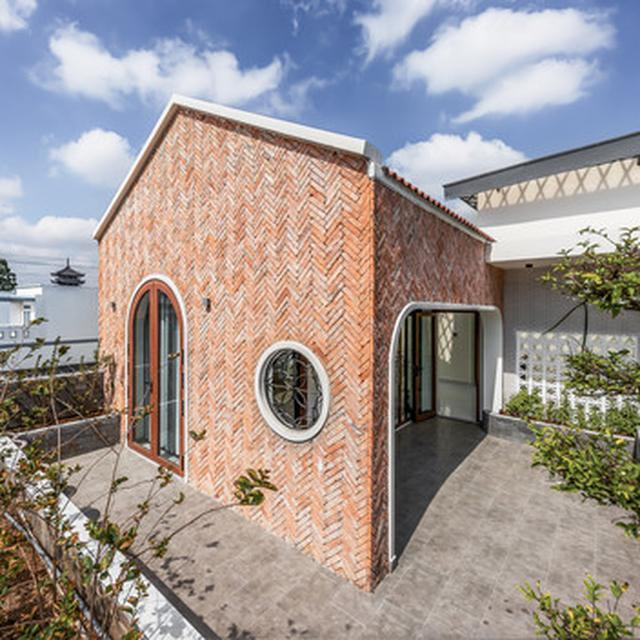building: (98, 92, 504, 594)
